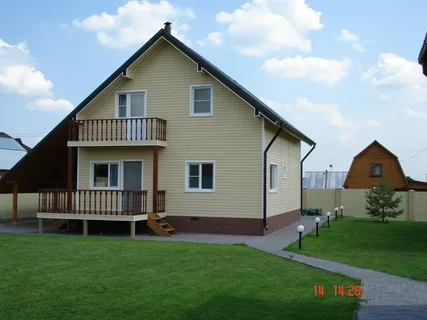private_hause: (60, 34, 302, 230)
